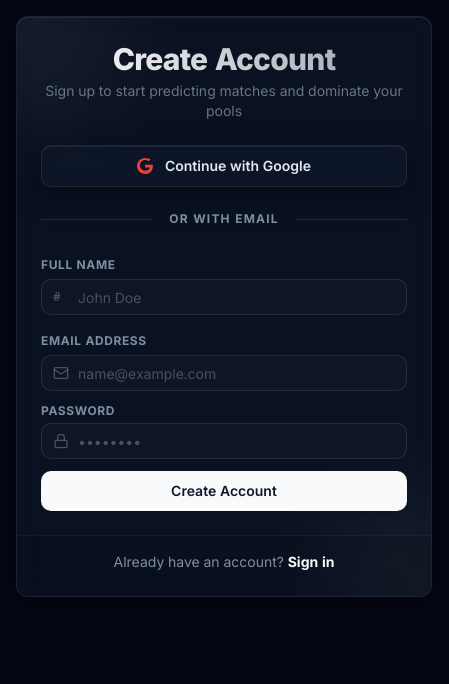
Test: components/auth-card › handles user signup submission successfully
In the field labelled "Full Name": (224, 297) [41,279,407,315], type "Kudo Champion"
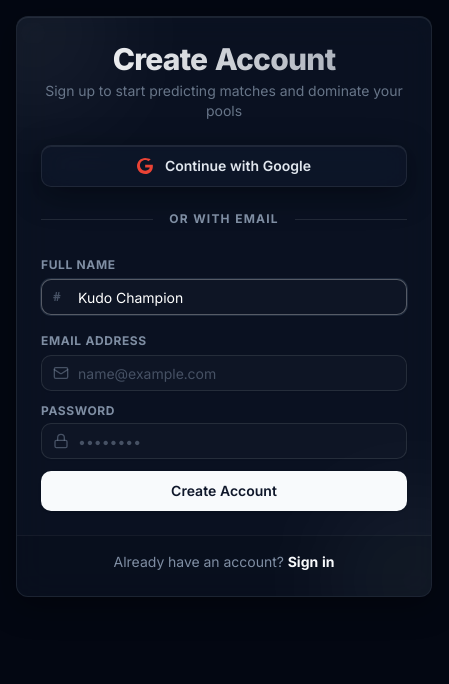
In the field labelled "Email Address": (224, 373) [41,355,407,391], type "kudo@match.com"
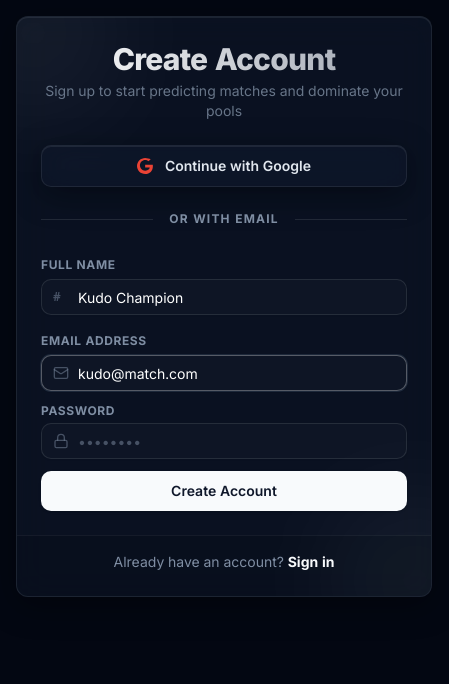
In the password field labelled "Password": (224, 441) [41,423,407,459], type "secret123"
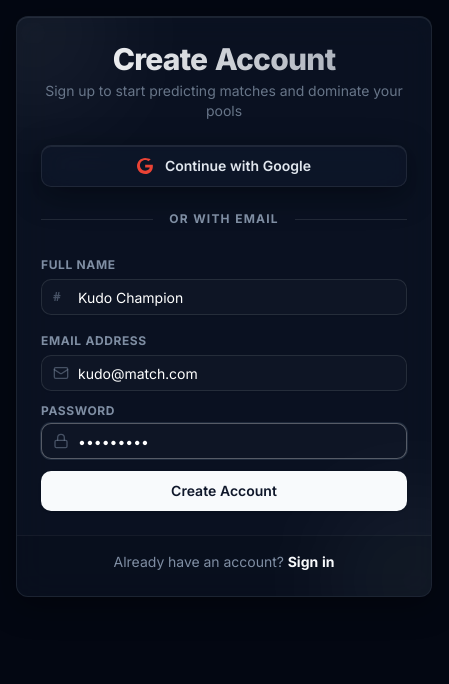
Click the button "Create Account": (224, 491) [41,471,407,511]
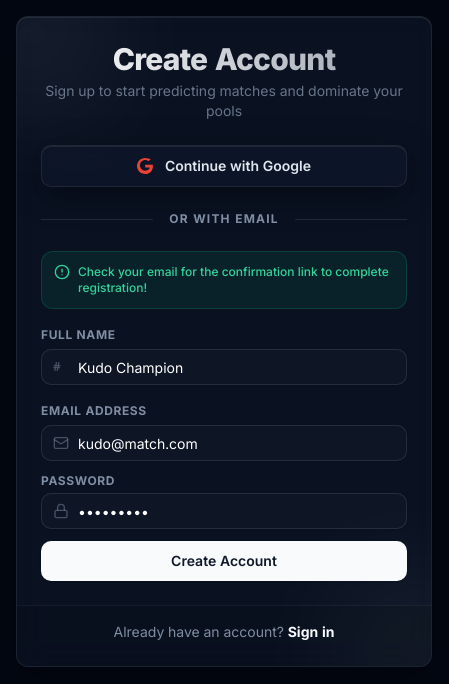
Expected: the text "Check your email for the confirmation link" is shown, [78,264,389,295]
